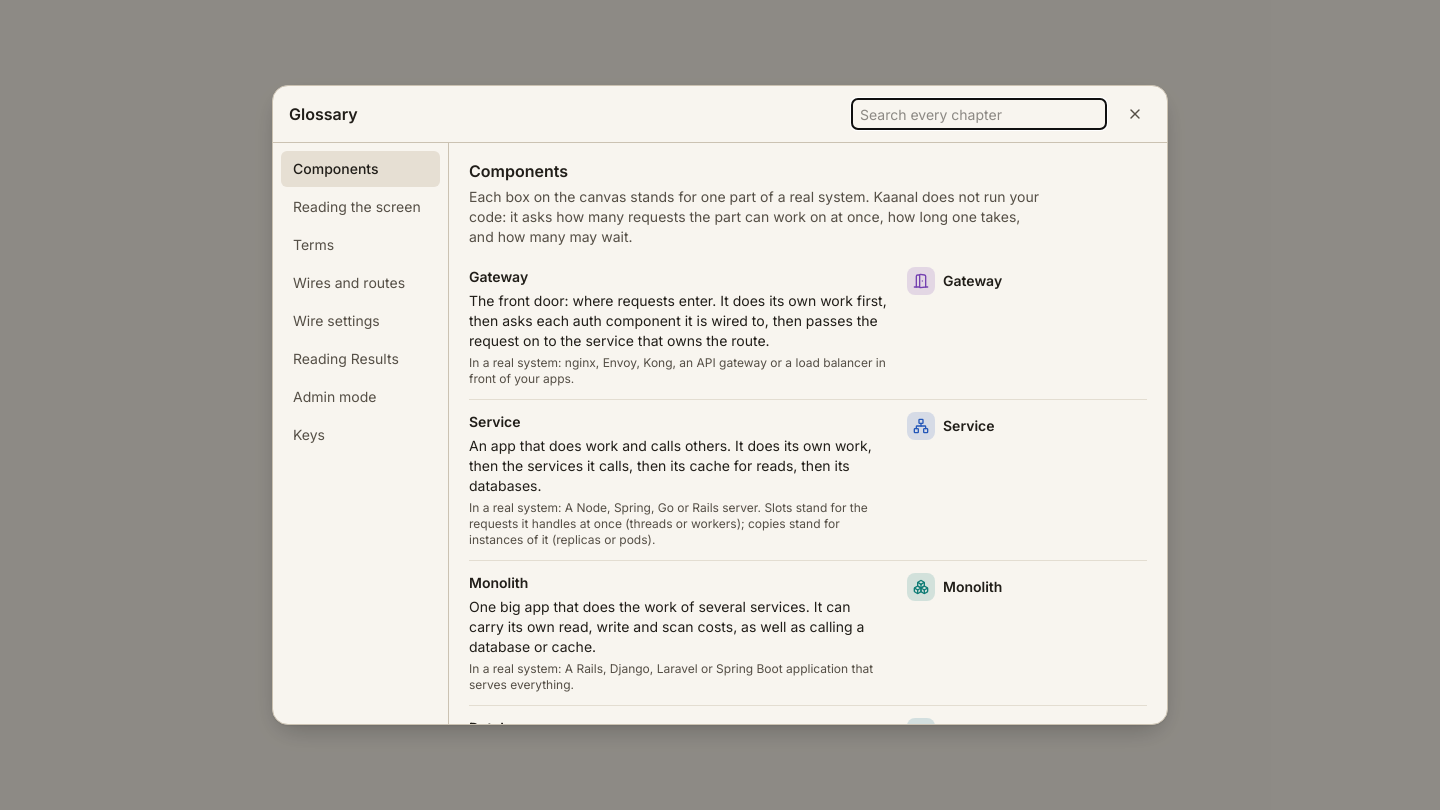
Test: choosing_a_tab_shows_that_chapter
Press the mouse on the tab "Reading the screen": (360, 207) [281,189,440,225]
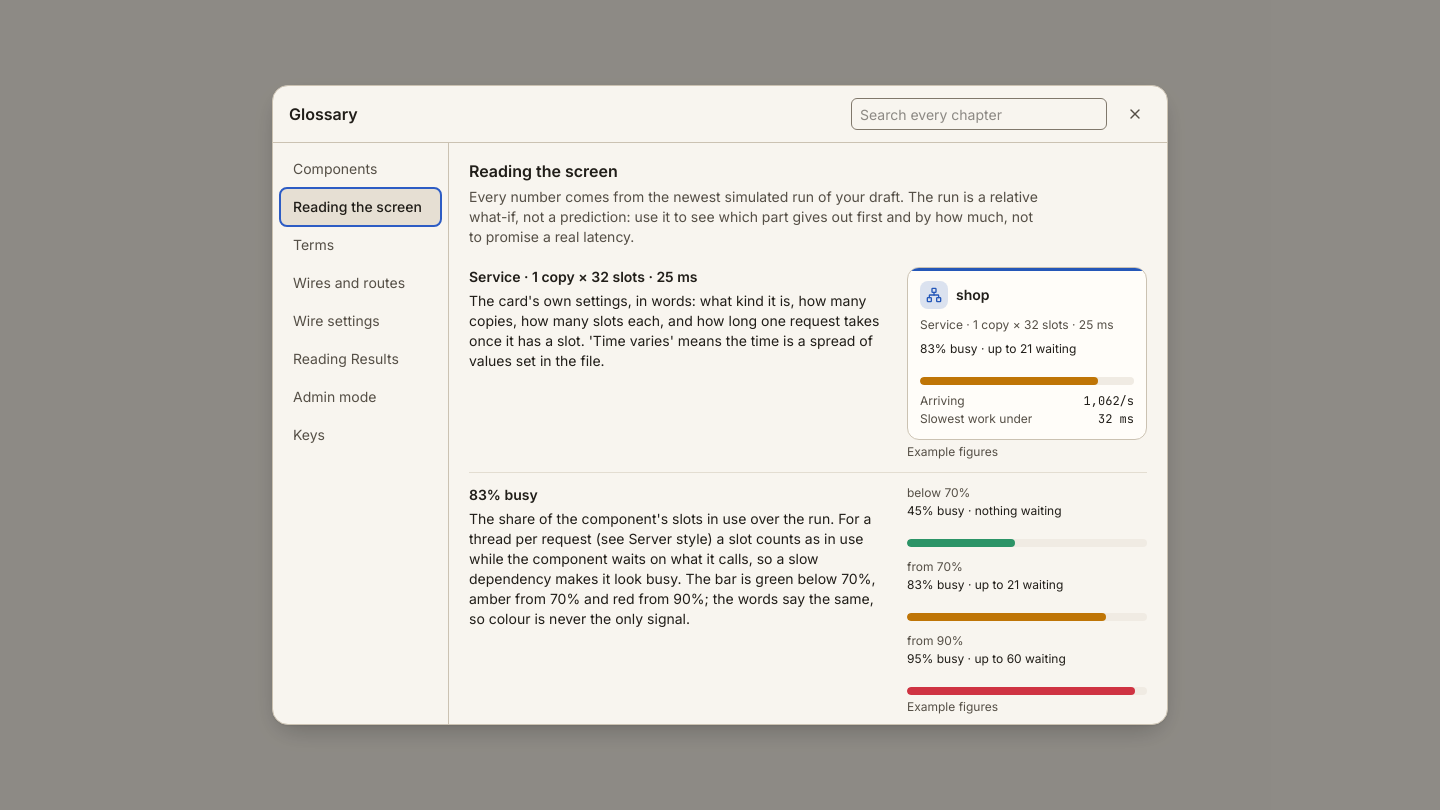
Expected: the heading "Reading the screen" is shown, [469,161,618,181]
Expected: the text "Slowest work under" is shown, [920,411,1032,426]
